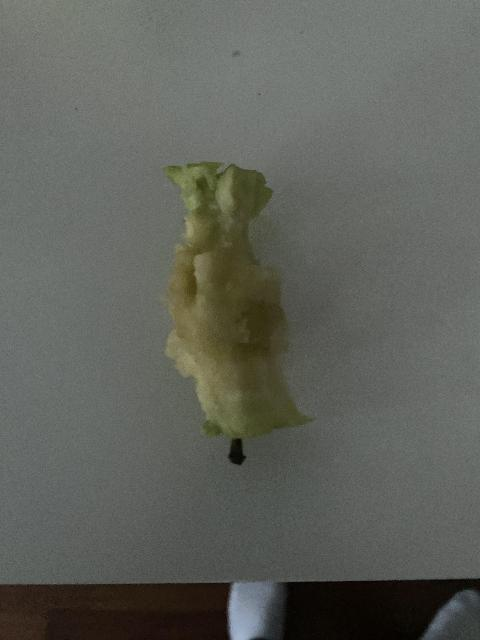Organik: (162, 154, 300, 456)
